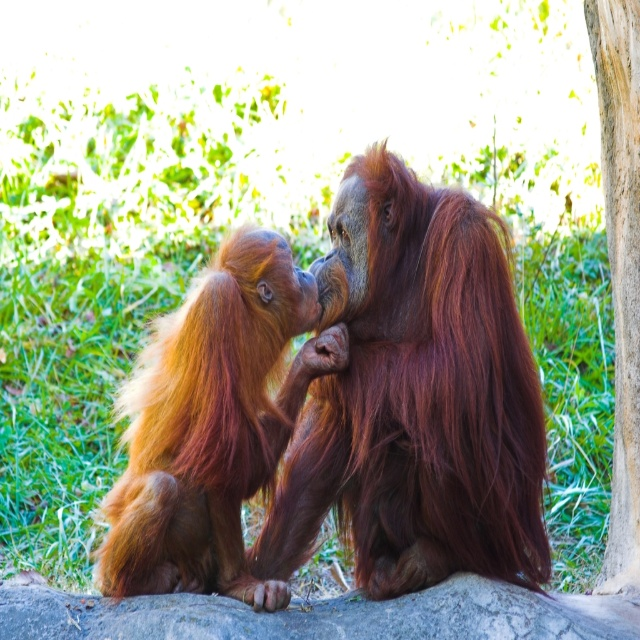Monkey: (105, 166, 394, 606)
